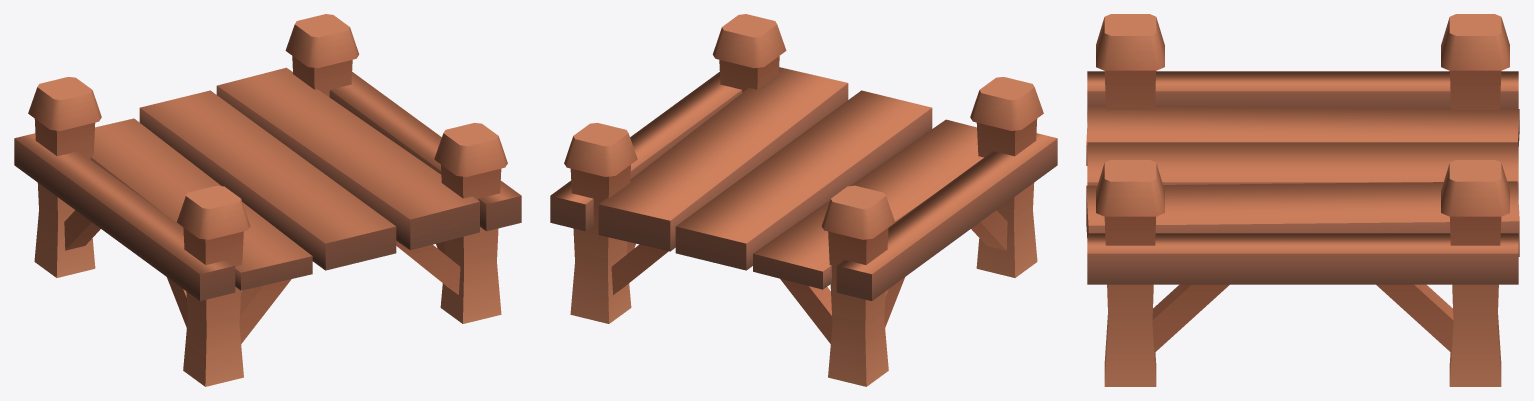
File: kenney-pirate-structure-platform-dock.glb
The picture shows the model from 3 angles, left to right: view 1: azimuth 30°, elevation 25°; view 2: azimuth 150°, elevation 25°; view 3: azimuth 270°, elevation 25°; orthographic projection. The views are drawn at different scales.
Parts seen in each view (by area): view 1: structure-platform-dock; view 2: structure-platform-dock; view 3: structure-platform-dock.
Part boxes in pixels (bbox=[...]): structure-platform-dock: bbox=[14, 14, 521, 386]; structure-platform-dock: bbox=[550, 14, 1057, 386]; structure-platform-dock: bbox=[1086, 14, 1519, 386].
Size of the model in its own units: 2.5 by 1.31 by 2.51.
Materials: 1 (1 with a texture image).
